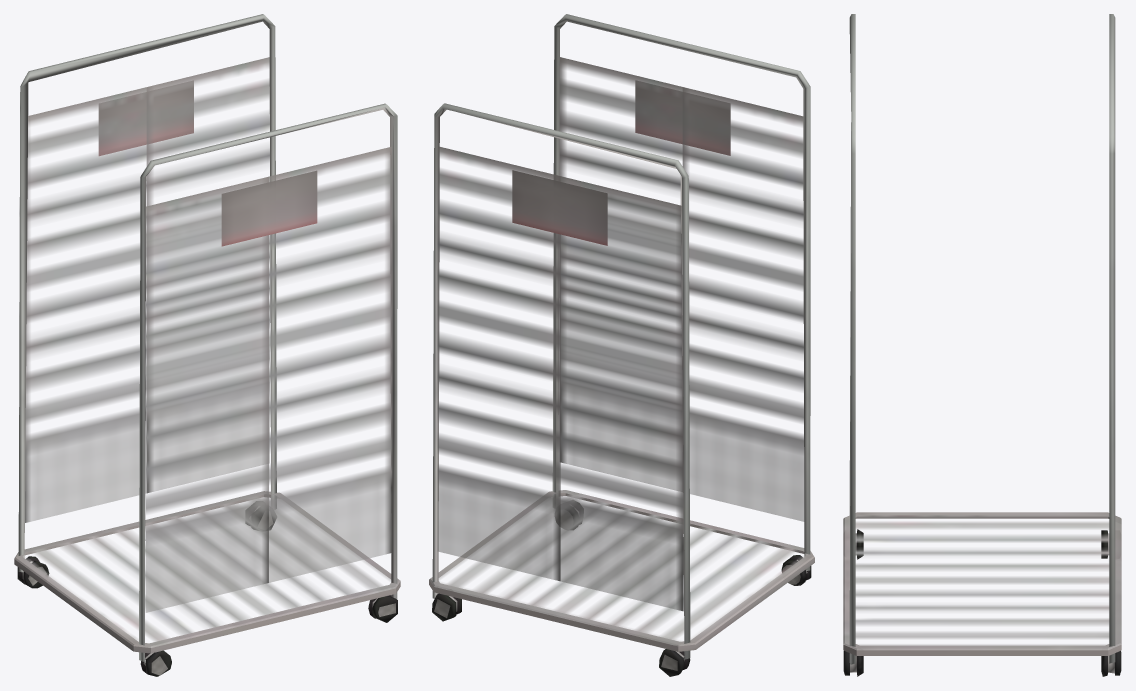
File: ss-roll-cage.lod1.glb
3 renders of one model, left to right at view 1: azimuth 30°, elevation 25°; view 2: azimuth 150°, elevation 25°; view 3: azimuth 270°, elevation 25°, orthographic. The views are drawn at different scales.
Parts seen in each view (by area): view 1: general_store_furniture_cart_general_store_furniture_0; view 2: general_store_furniture_cart_general_store_furniture_0; view 3: general_store_furniture_cart_general_store_furniture_0.
Part boxes in pixels (x1=…): general_store_furniture_cart_general_store_furniture_0: x1=14, y1=14, x2=400, y2=676; general_store_furniture_cart_general_store_furniture_0: x1=429, y1=14, x2=814, y2=676; general_store_furniture_cart_general_store_furniture_0: x1=843, y1=14, x2=1121, y2=676.
Bounding box in the file's own units: 1.2 × 2.22 × 1.03.
1 material, 1 textured.
